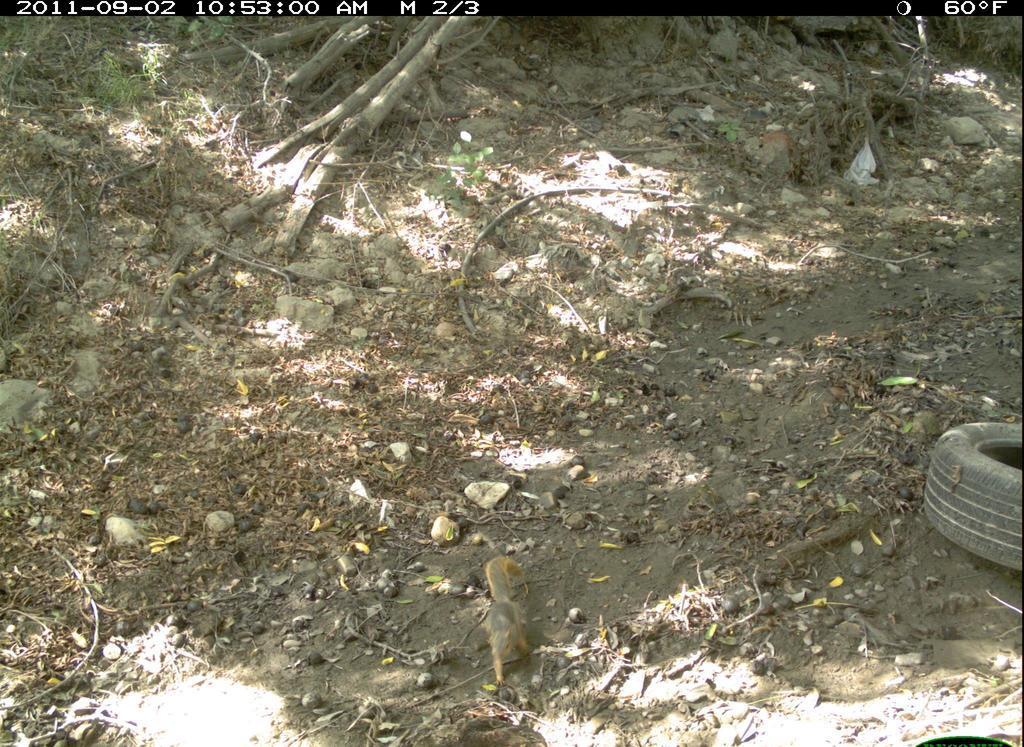squirrel: (478, 551, 542, 685)
